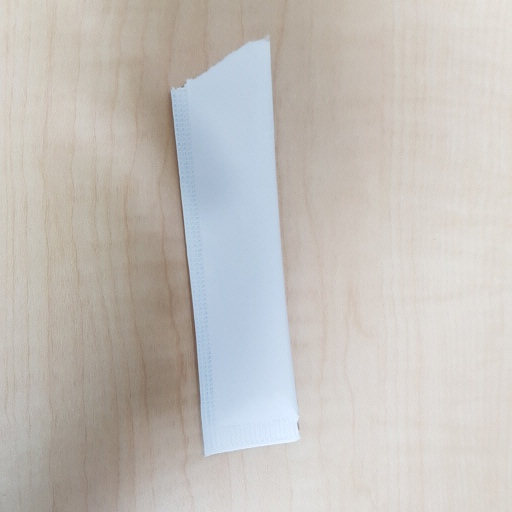Paper_2: (168, 70, 326, 462)
